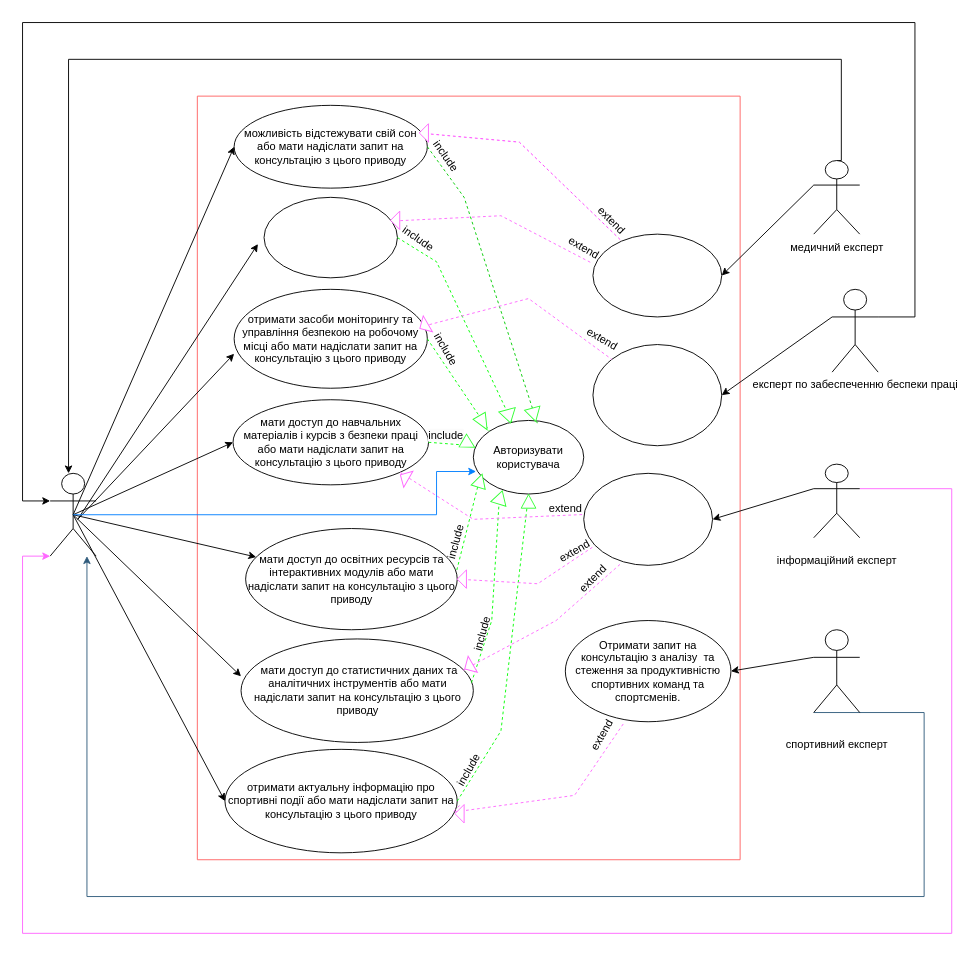
Some shapes in this 975 by 957 pixel diagram are drawn without their labels. The shapes that lost their labels are listed below. From the top down, each one's centre as x and y in pixels, then its label:
At point 330,237: "отримати персоналізовані рекомендації з цього приводу".
At point 657,275: "Отримати запит на медичну консультацію".
At point 657,395: "Отримати запит на консультацію забеспечення беспеки праці".
At point 72,514: "Користувач".
At point 648,518: "Отримати запит на консультацію з аналізу данних".
